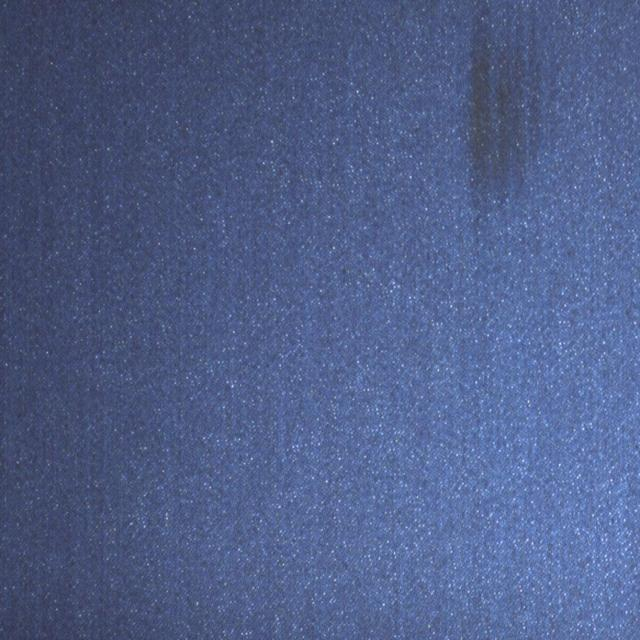Stain: (459, 0, 554, 225)
